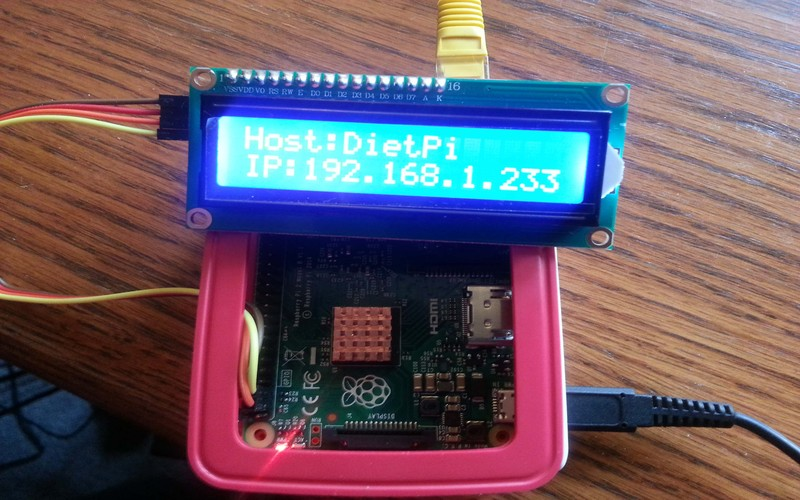LCD: (177, 59, 640, 250)
